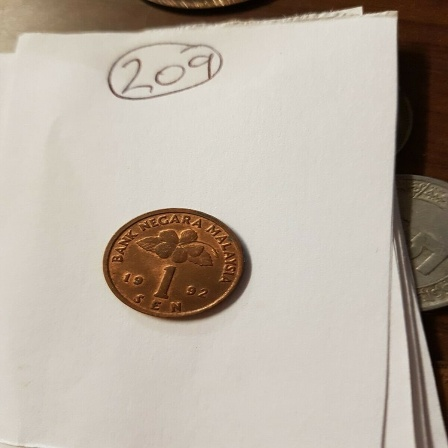1c: (102, 208, 245, 320)
